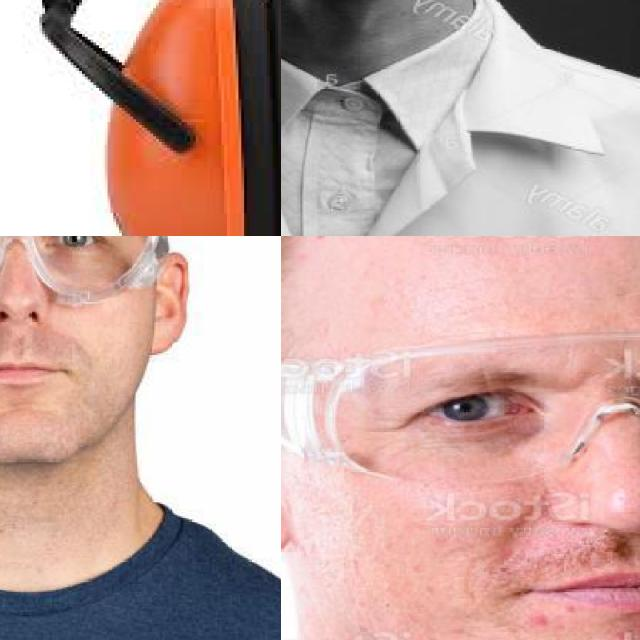Ear-protection: (99, 0, 269, 236)
face_nomask: (395, 357, 640, 640), (0, 236, 127, 409)
glasses: (281, 323, 640, 478), (0, 236, 168, 312)
